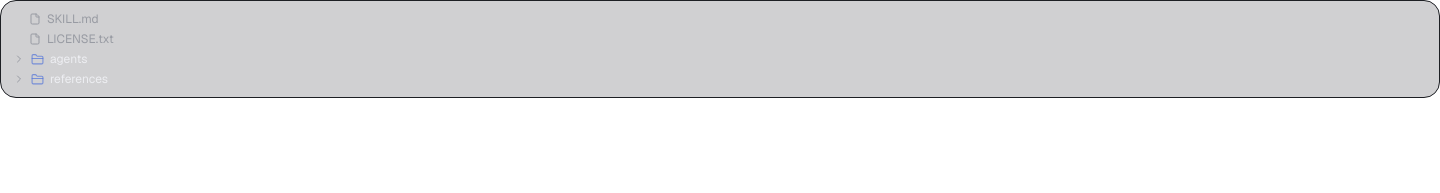
Test: SkillFileSection file previews › expands a file preview on click and collapses it on second click
The width and height of the screenshot is (1440, 193).
Click the button "SKILL.md". click: (73, 19)
box: [9, 9, 1431, 29]
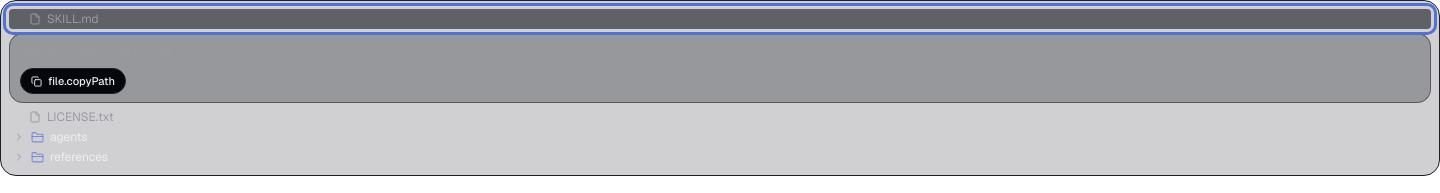
Click the button "SKILL.md". click: (73, 19)
box: [9, 9, 1431, 29]
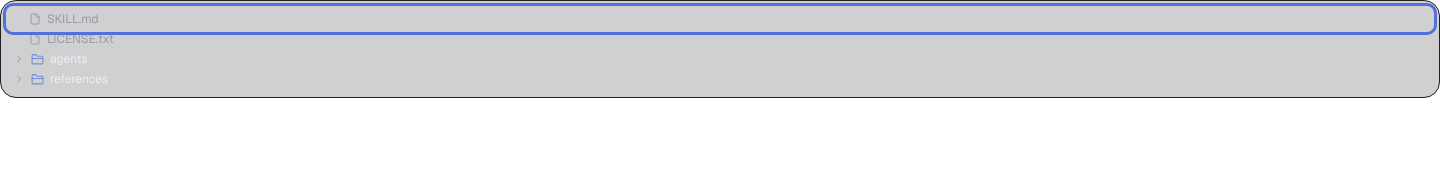
Check: the text "CONTENT:/skill/SKILL.md" is gone
